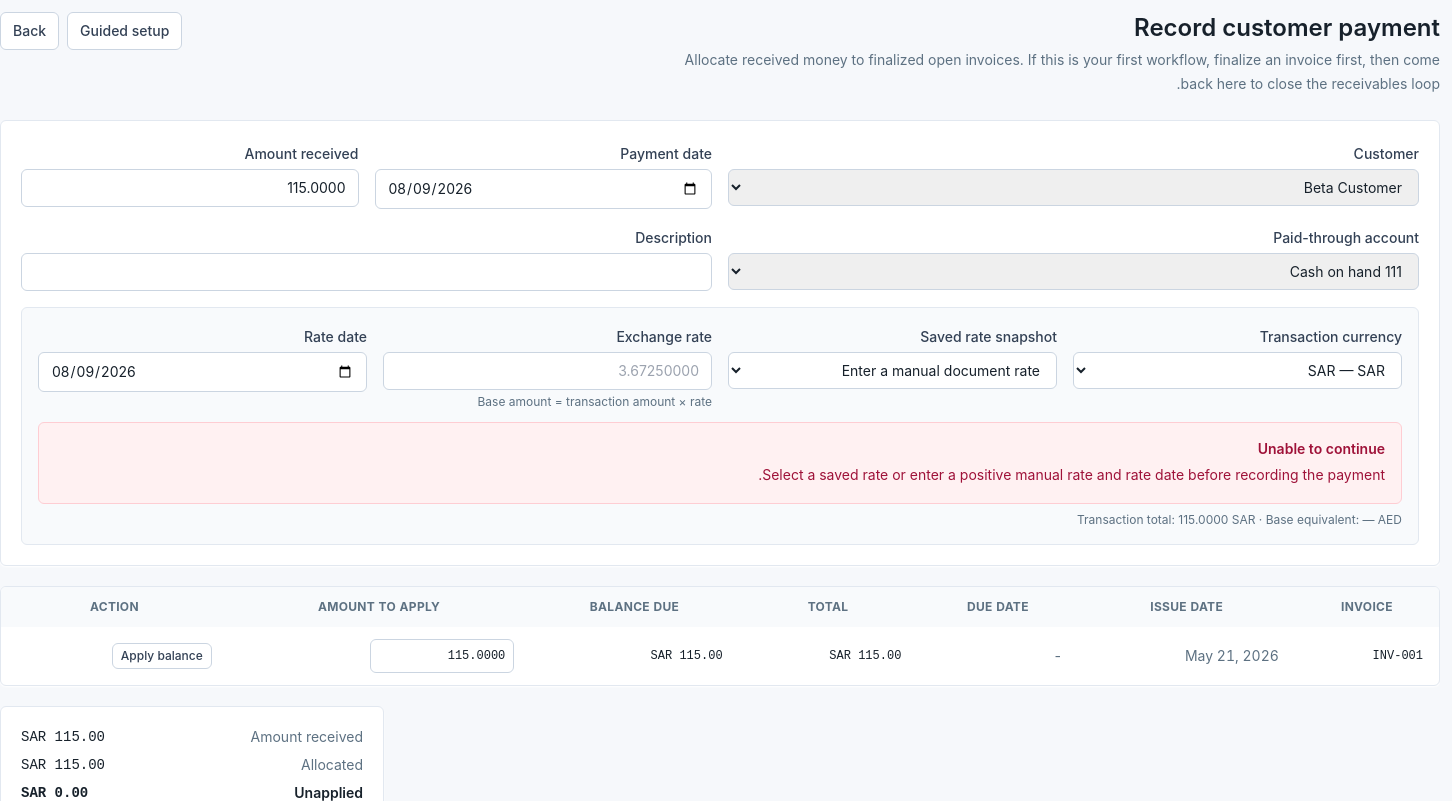
Scenario: NewCustomerPaymentPage › shows captured payment-rate controls for an AED-base SAR invoice
expect the field labelled "Amount received" holds "115.0000": met, box x1=21 y1=169 x2=358 y2=207
expect the dropdown labelled "Transaction currency" shows "SAR — SAR": met, box x1=1073 y1=352 x2=1402 y2=389
Type "3.75000000" into the field labelled "Exchange rate" at (548, 371), box x1=383 y1=352 x2=712 y2=390
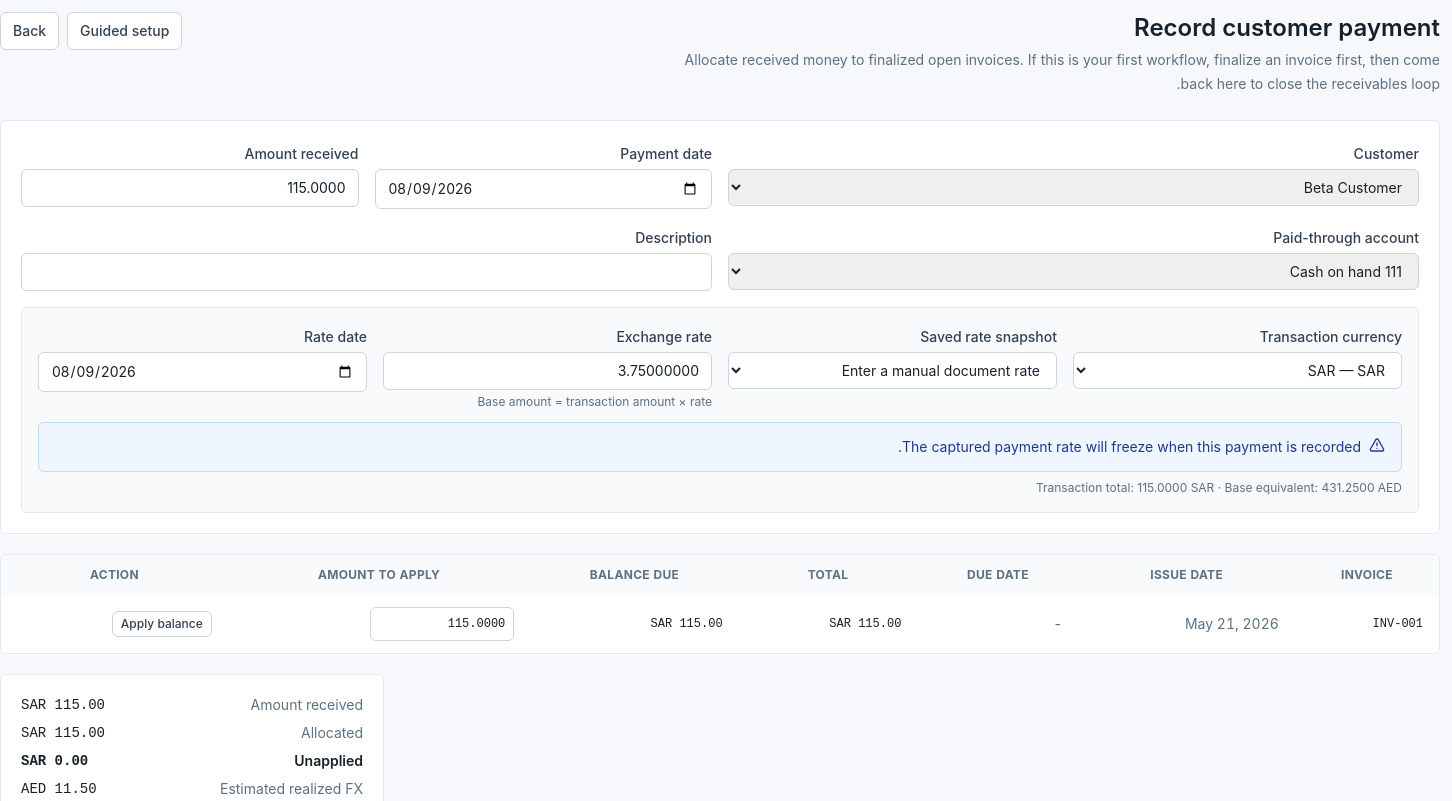
expect the text "The captured payment rate will freeze when this payment is recorded." is shown: met, box x1=898 y1=435 x2=1361 y2=459
